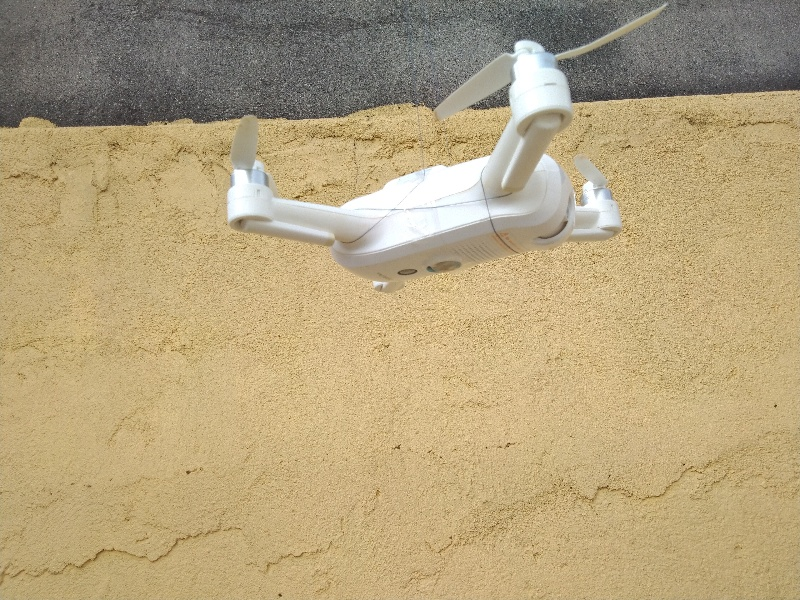drone: (214, 36, 637, 294)
